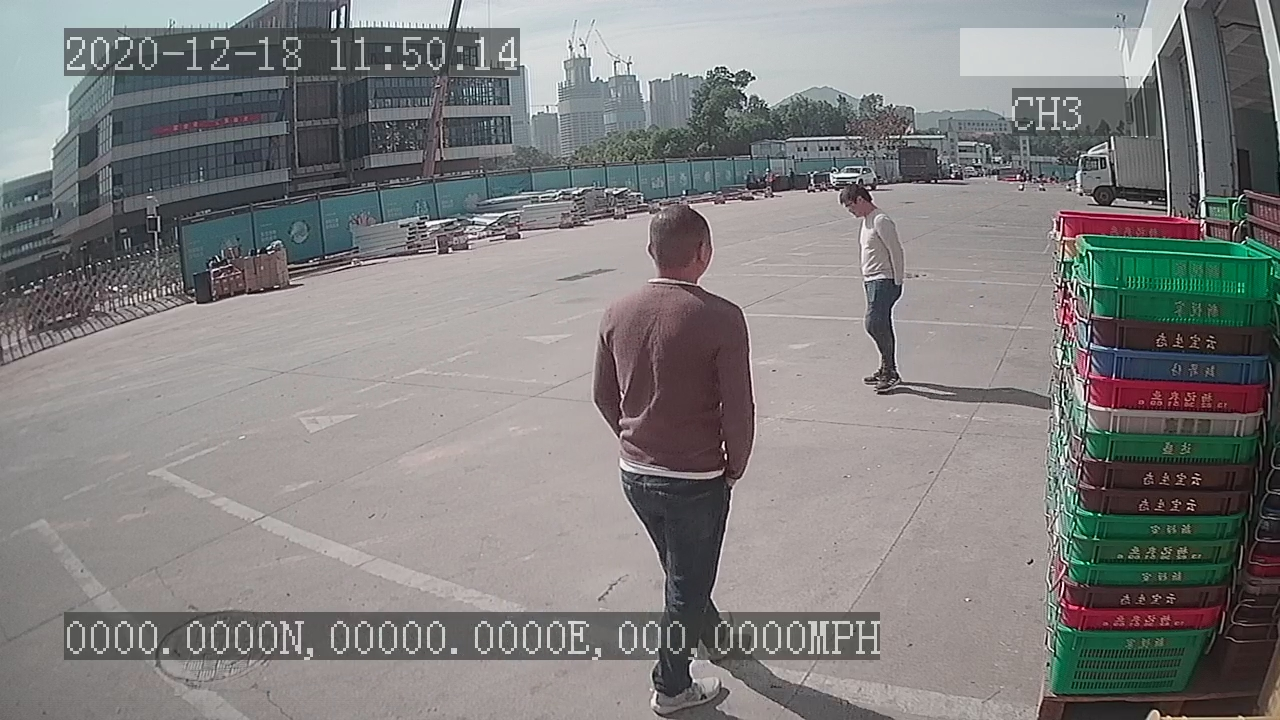person: (836, 177, 913, 397)
